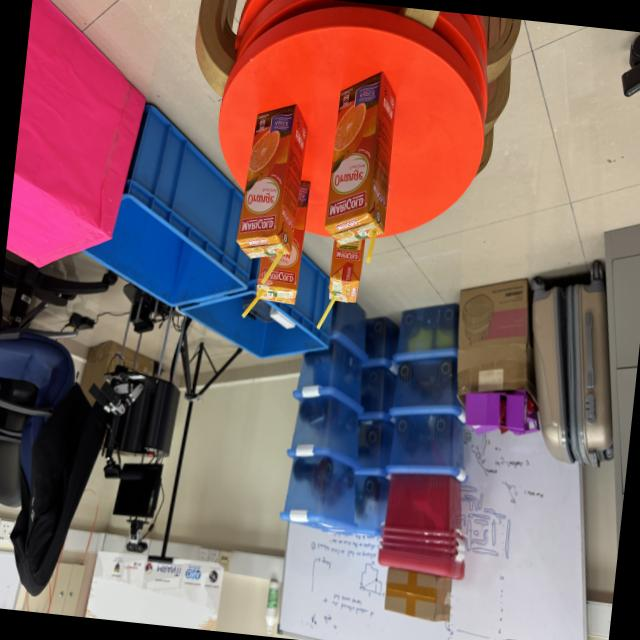drink_carton: (314, 63, 408, 275), (225, 91, 319, 294), (236, 164, 322, 332), (312, 230, 371, 338)
